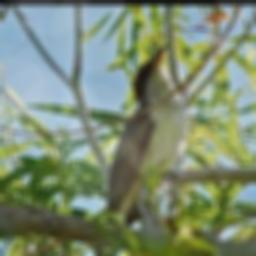Cuckoo: (79, 45, 187, 256)
